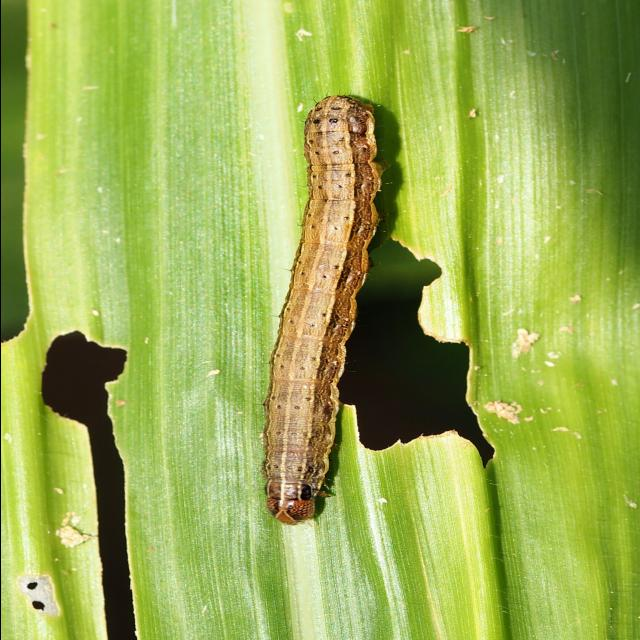armyworm: (245, 92, 395, 524)
